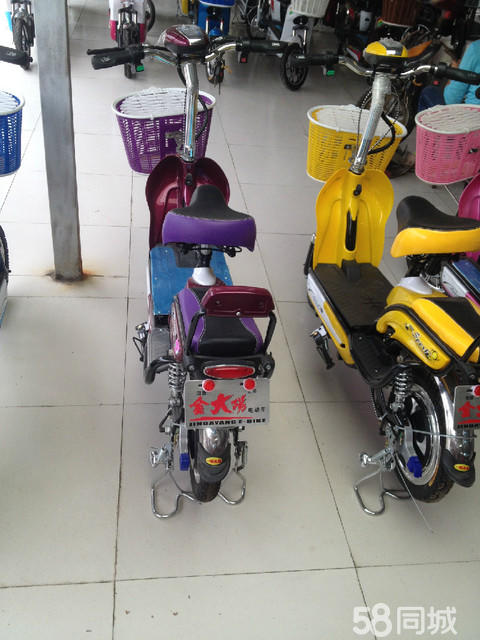电动车: (85, 25, 306, 526), (299, 23, 480, 518)
